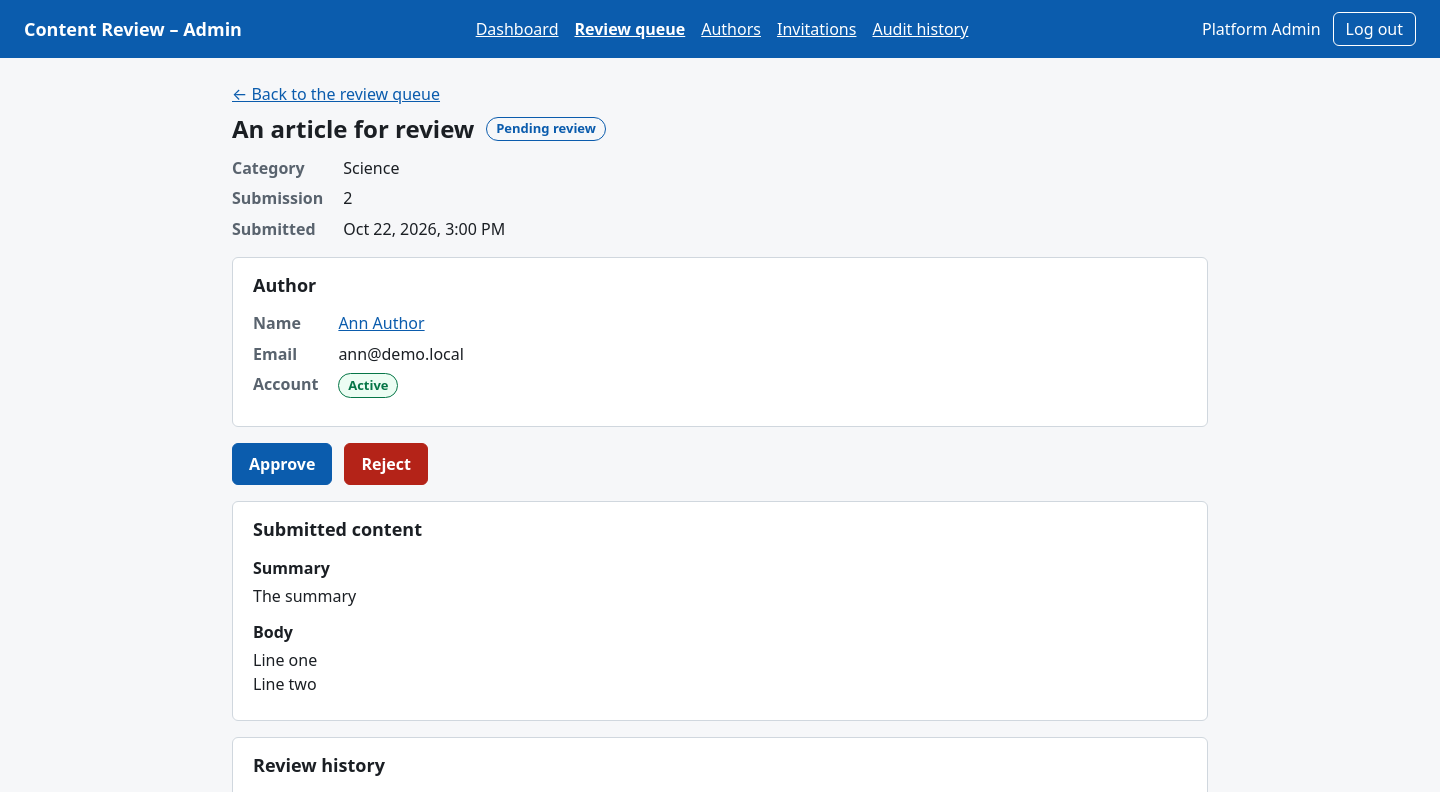
Test: approving › sends the version and submission version, then returns to the queue with a message
Expected: the heading "An article for review" is shown, [232,114,474,144]
Click the button with test id "review-approve".
click(282, 464)  # box [232,443,332,485]
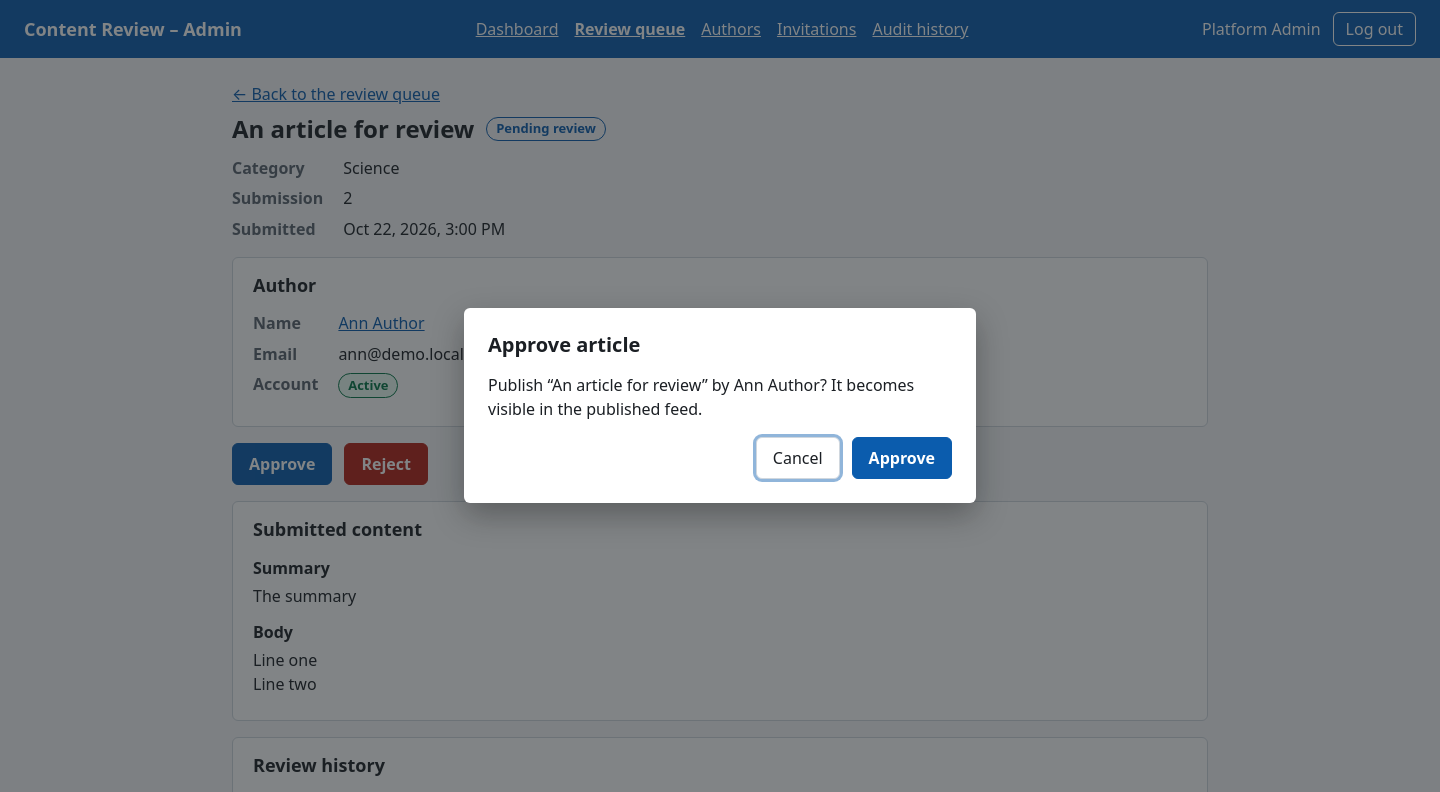
Click the button with test id "review-approve-confirm".
click(902, 458)  # box [852,436,952,478]
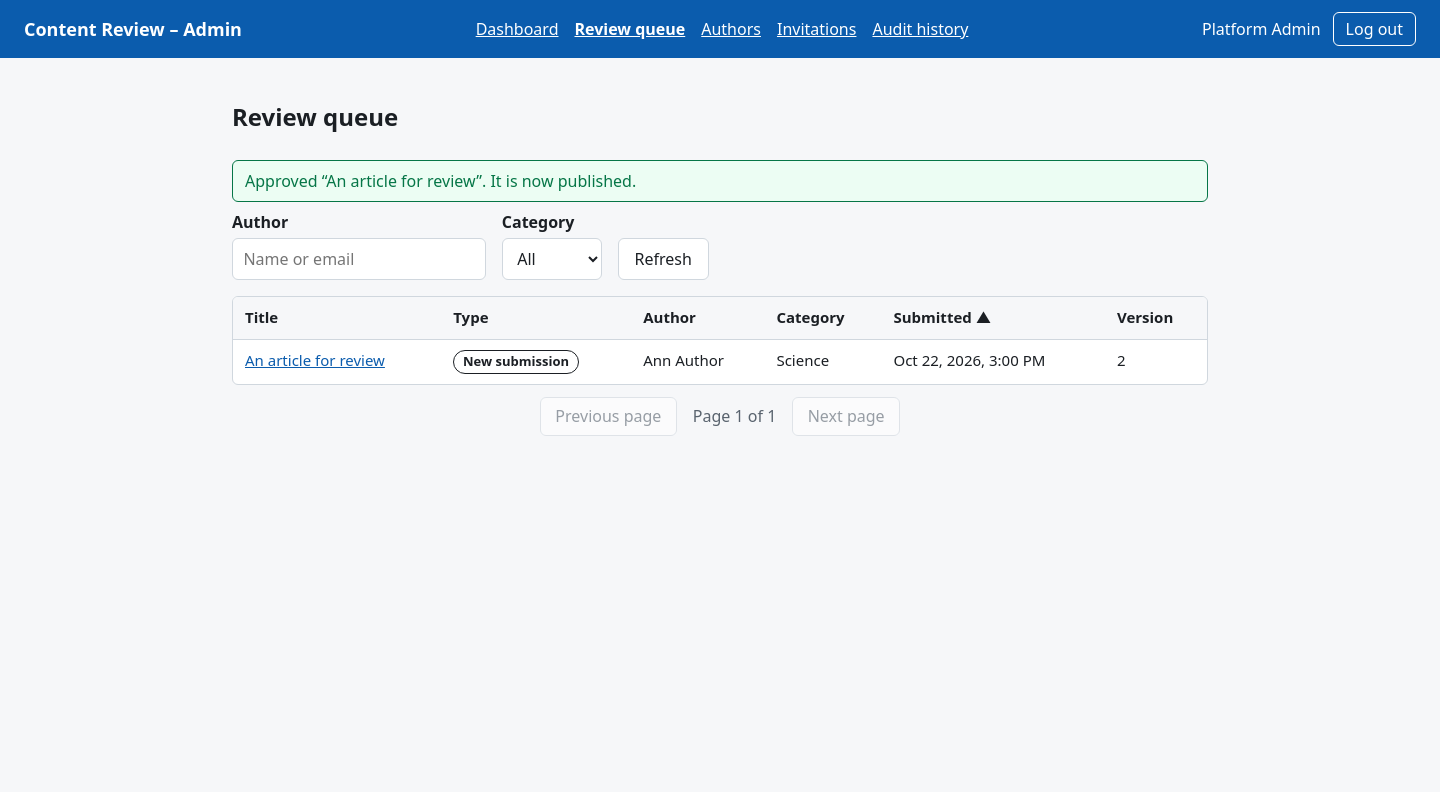
Result: the message with test id "review-flash" reads "Approved “An article for review”. It is now published." at [245,170,636,192]
